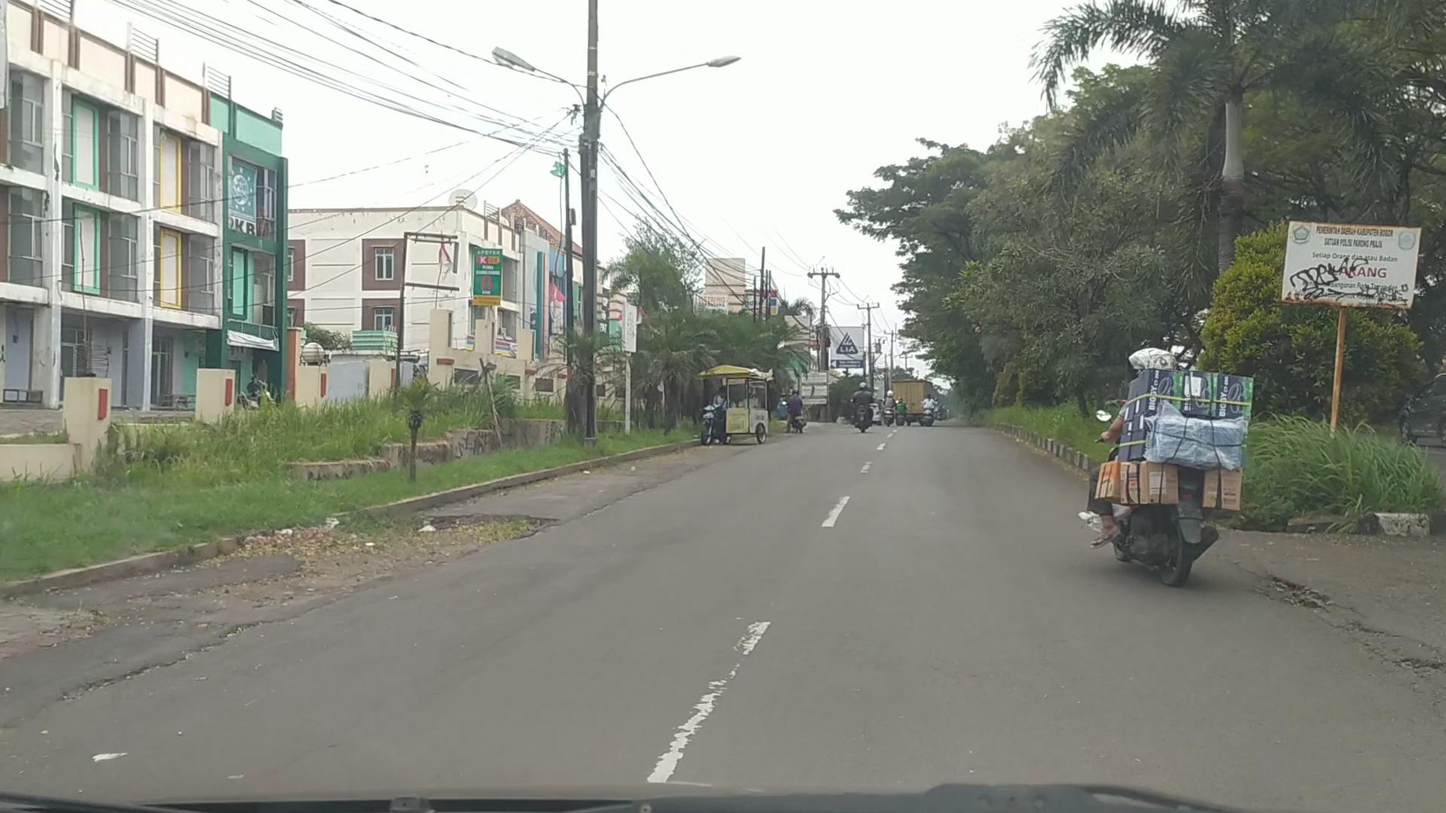pothole: (1268, 576, 1331, 610)
